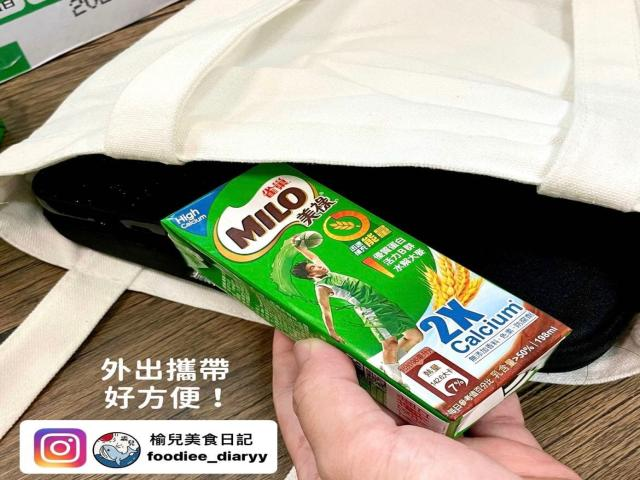drink_box: (162, 164, 570, 437)
